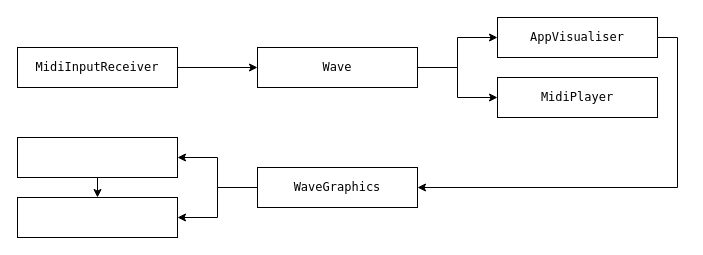
Some shapes in this 703 by 255 pixel diagram are drawn without their labels. The shapes that lost their labels are listed below. From the top down, each one's centre as x and y in pixels, then its label:
At pixel 97 157: "Java Swing".
At pixel 97 217: "Java AWT Graphics".
